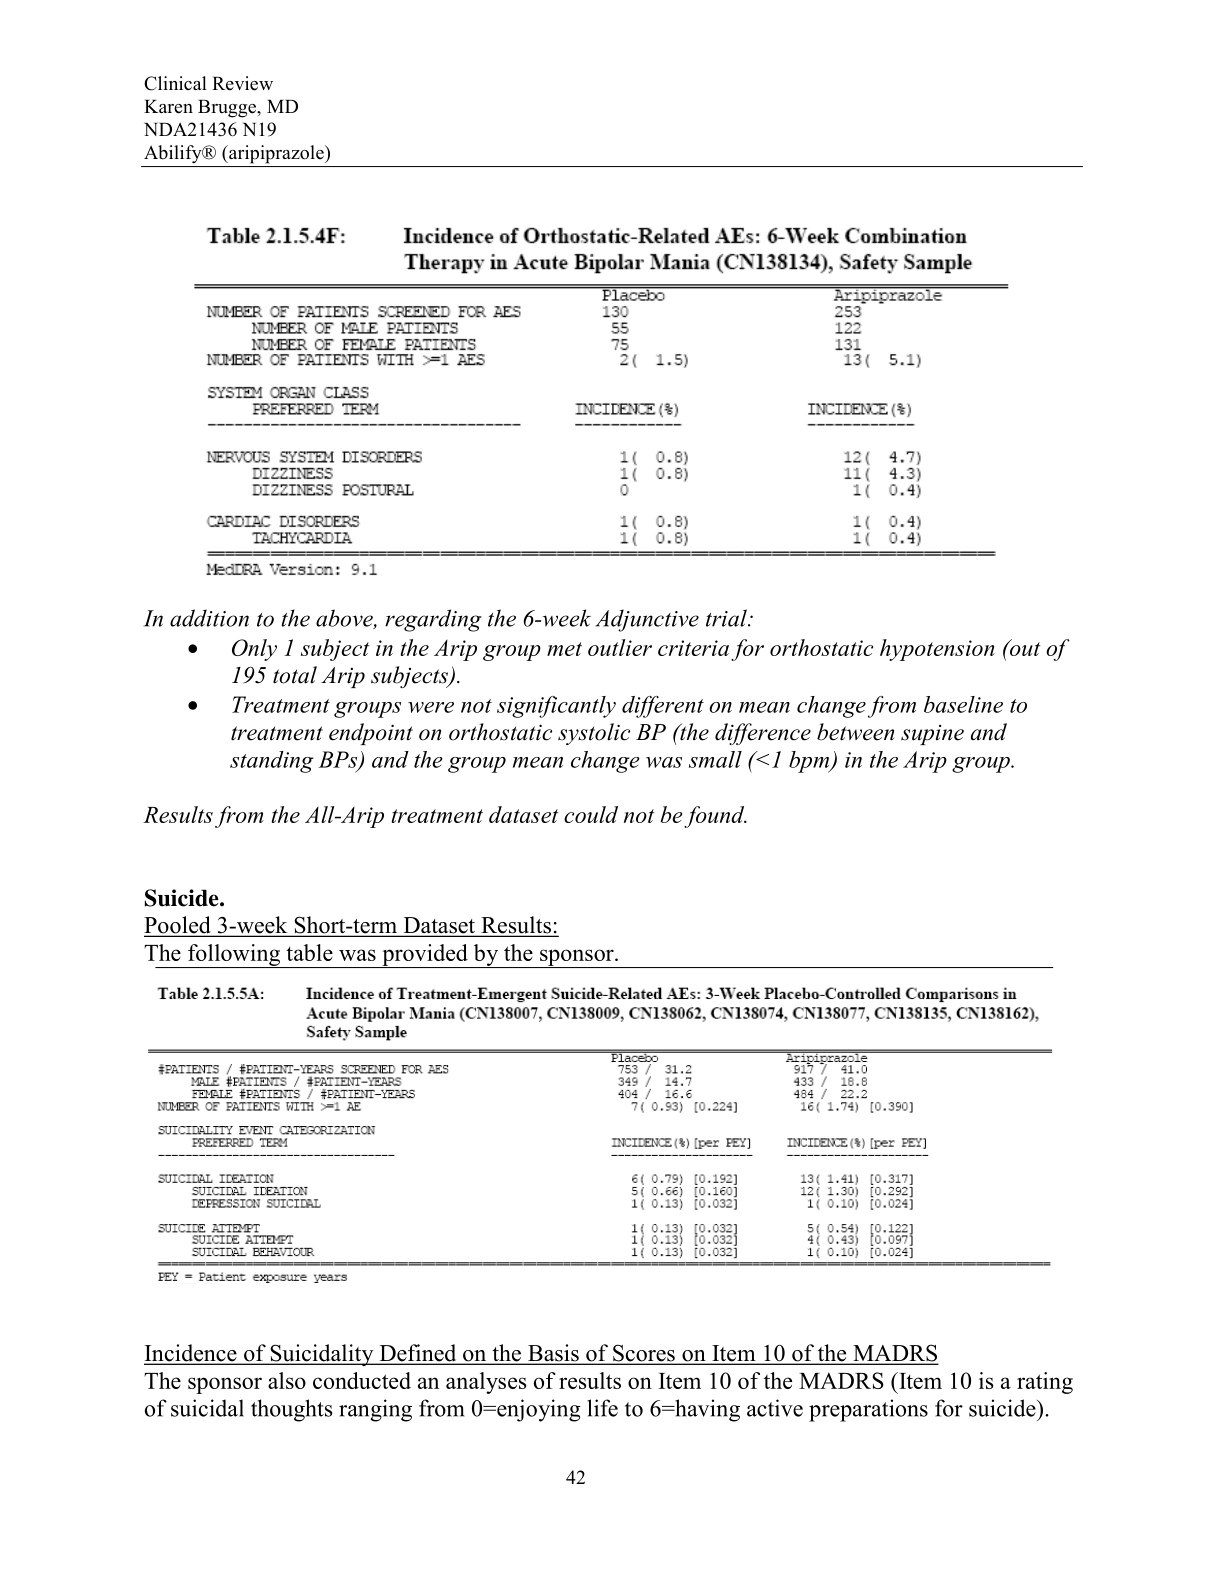partial_lined: (192, 282, 1011, 557), (147, 1047, 1053, 1268)
